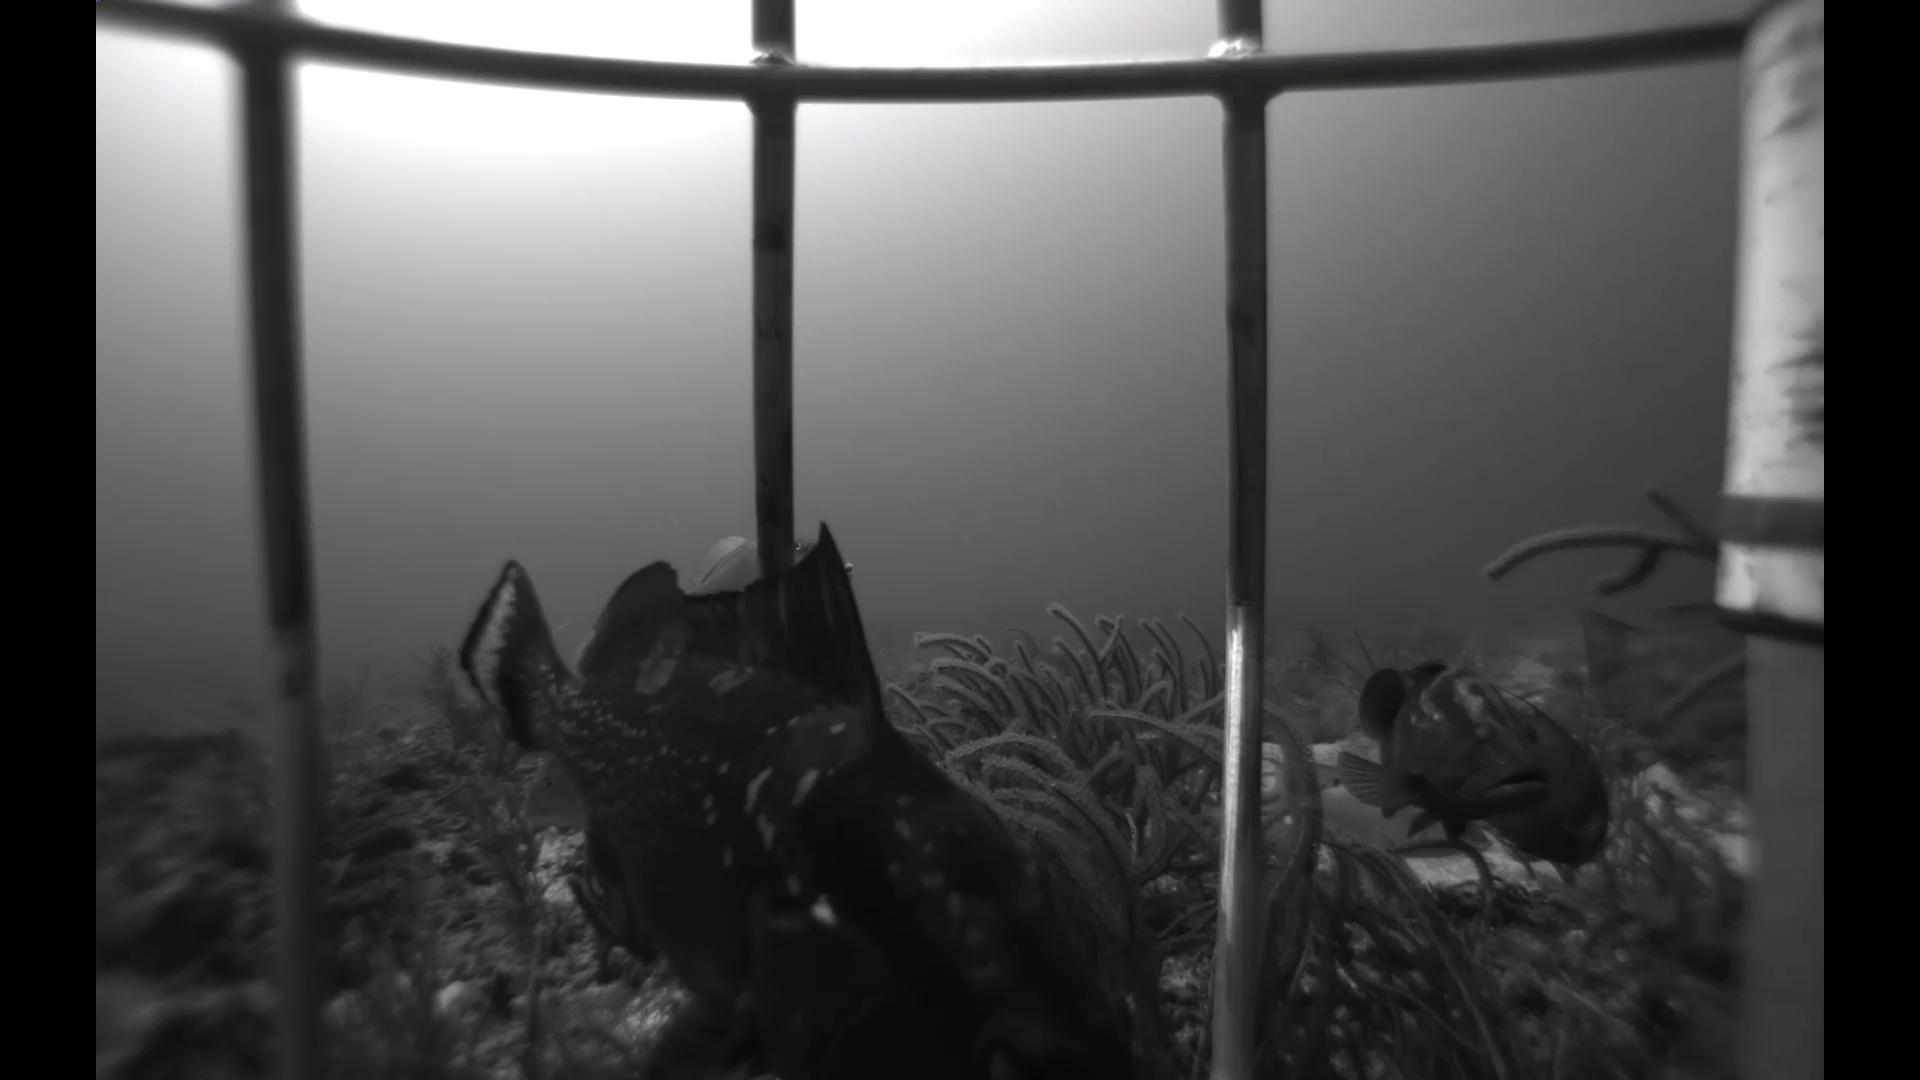BALISTESCAPRISCUS-189030502: (676, 517, 866, 600)
CALAMUSNODOSUS-170210608: (520, 760, 589, 837)
EPINEPHELUSMORIO-170021211: (435, 506, 1167, 1077), (1341, 651, 1555, 833)
LACHNOLAIMUSMAXIMUS-170281801: (1255, 741, 1495, 866)
LUTJANUSGRISEUS-170151109: (1567, 592, 1745, 717)
POMACANTHUSARCUATUS-170290201: (1482, 673, 1619, 882)
